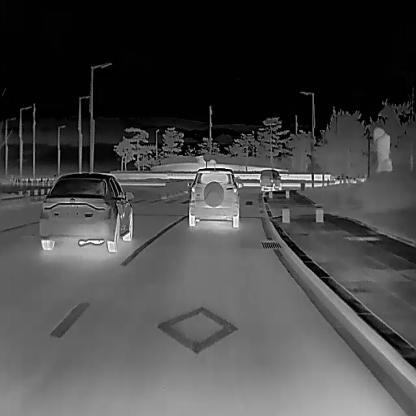car: (38, 171, 134, 252), (187, 166, 243, 228), (258, 168, 283, 192)
